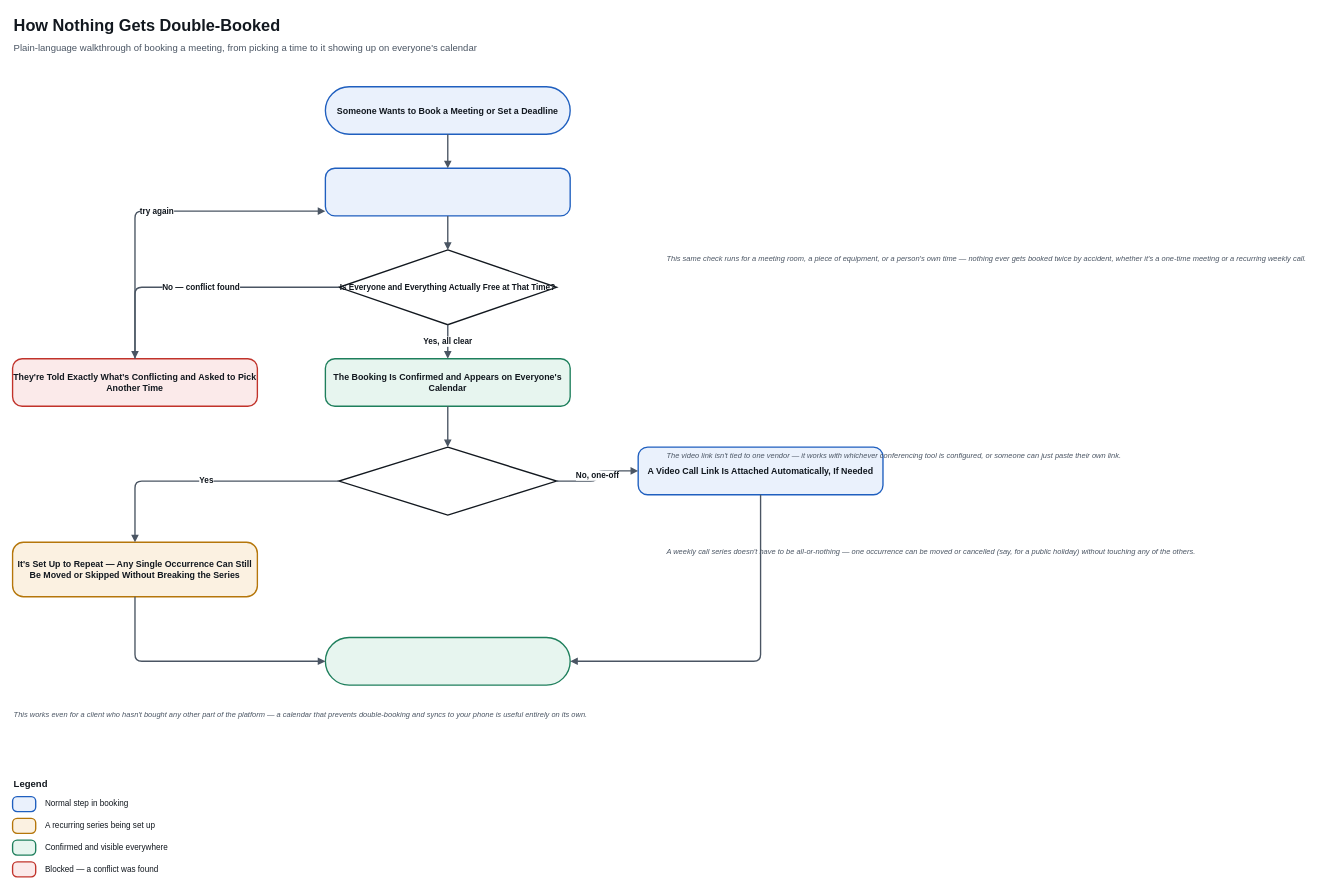
Some shapes in this 1318 by 890 pixel diagram are drawn without their labels. The shapes that lost their labels are listed below. From the top down, each one's centre as x and y in pixels, then its label:
At pixel 447 191: "They Pick a Time, Add People, and Choose a Room or Piece of Equipment".
At pixel 447 480: "Does It Repeat?".
At pixel 447 660: "Everyone Can See It in Their Own Phone Calendar App Too".
